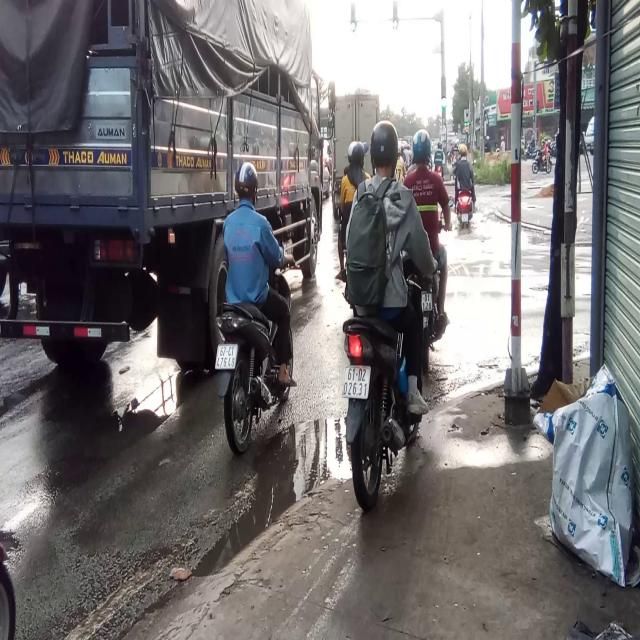bien_trang: (341, 358, 373, 399), (217, 342, 240, 372)
